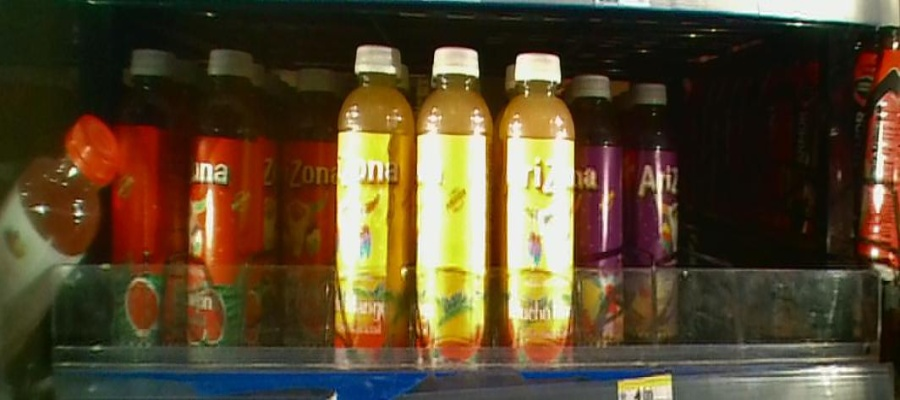bottle: (414, 24, 498, 369), (183, 20, 261, 367), (335, 37, 413, 372), (497, 39, 574, 367), (108, 31, 182, 367), (280, 54, 335, 383), (573, 52, 628, 355), (629, 59, 682, 357)
